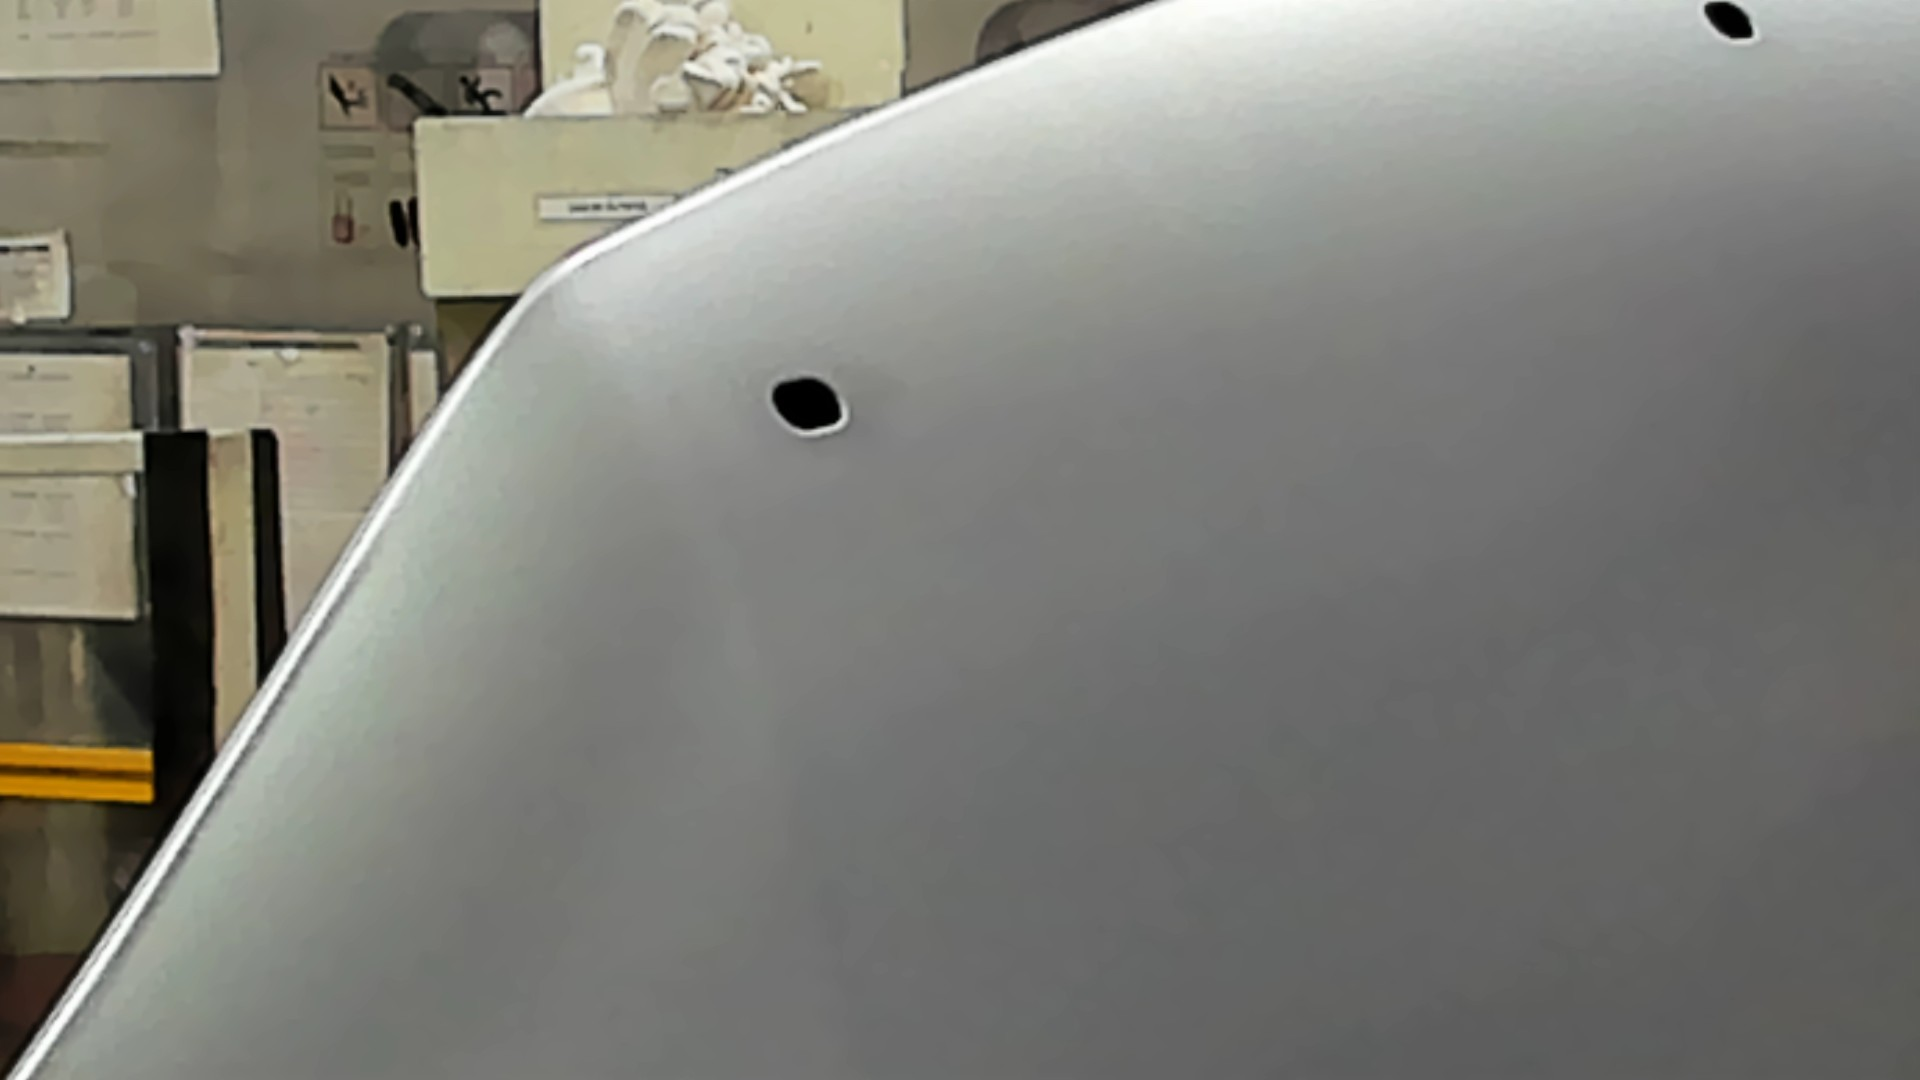amorfo: (760, 367, 856, 440), (1695, 1, 1764, 50)
capo: (968, 100, 1920, 1080)
